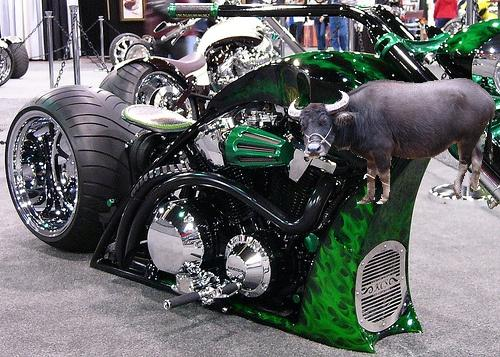tampered: (289, 79, 496, 204)
